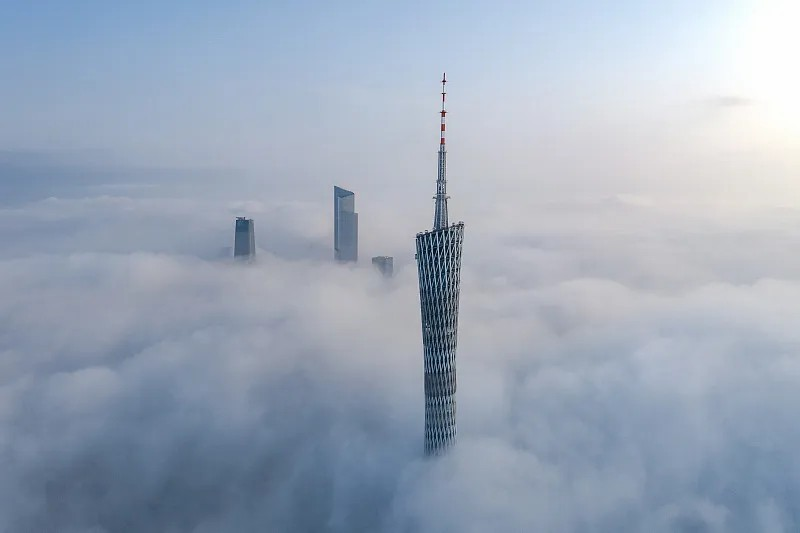Canton: (412, 71, 471, 459)
